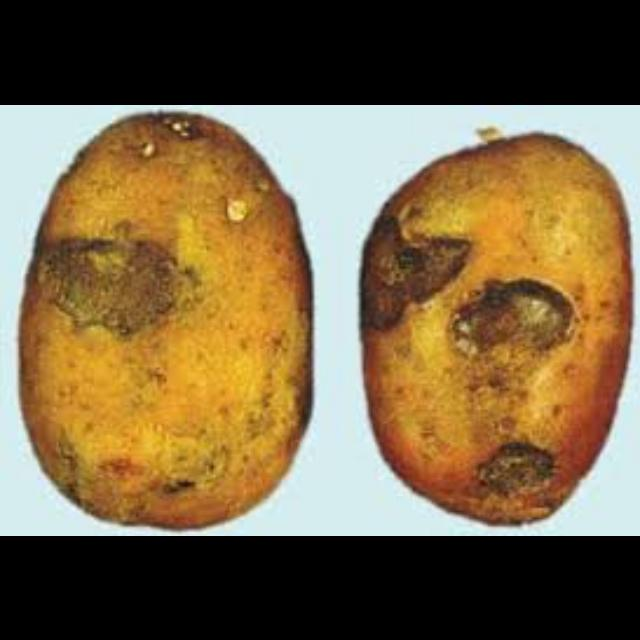Diseased-fungal potato: (18, 104, 316, 522), (342, 132, 636, 532)
